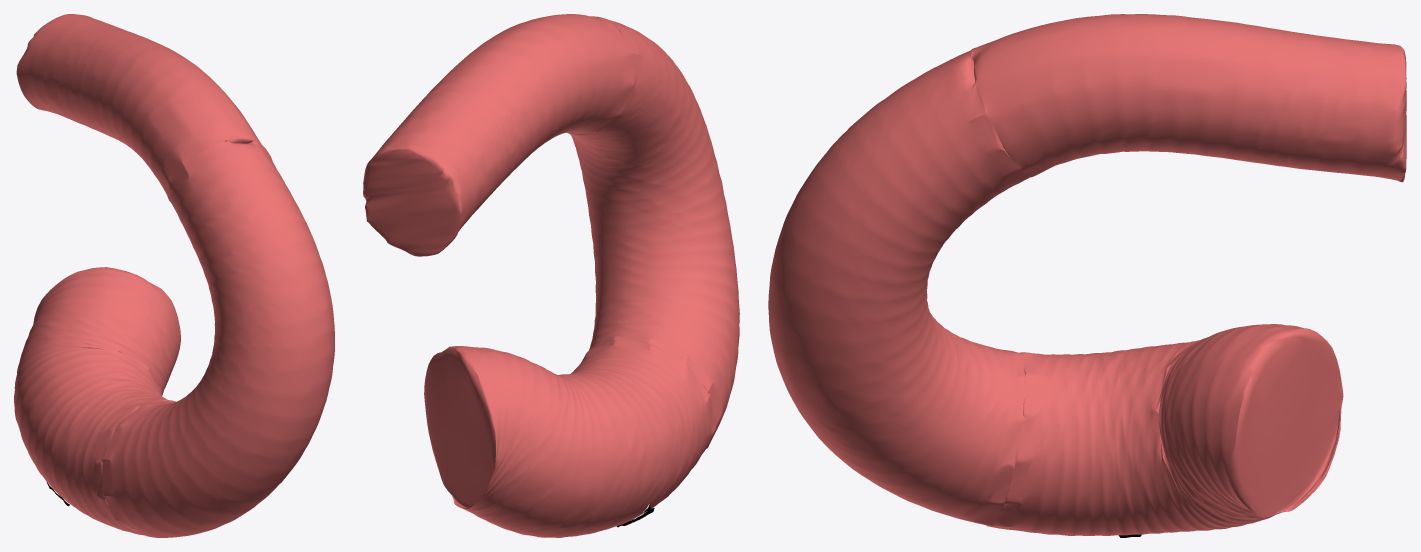
The model's file is Aorta-model.glb.
The picture shows the model from 3 angles, left to right: view 1: azimuth 30°, elevation 25°; view 2: azimuth 150°, elevation 25°; view 3: azimuth 270°, elevation 25°; orthographic projection. The views are drawn at different scales.
Parts seen in each view (by area): view 1: Object_231, Object_232; view 2: Object_231, Object_232; view 3: Object_231, Object_232.
Boxes of the visible parts, x1,y1,x2,y2 form: Object_231: (16,14,334,537); Object_232: (14,267,180,535); Object_231: (363,14,739,448); Object_232: (424,339,716,537); Object_231: (768,14,1406,526); Object_232: (986,324,1343,535).
Bounding box in the file's own units: 0.041 × 0.0938 × 0.0984.
